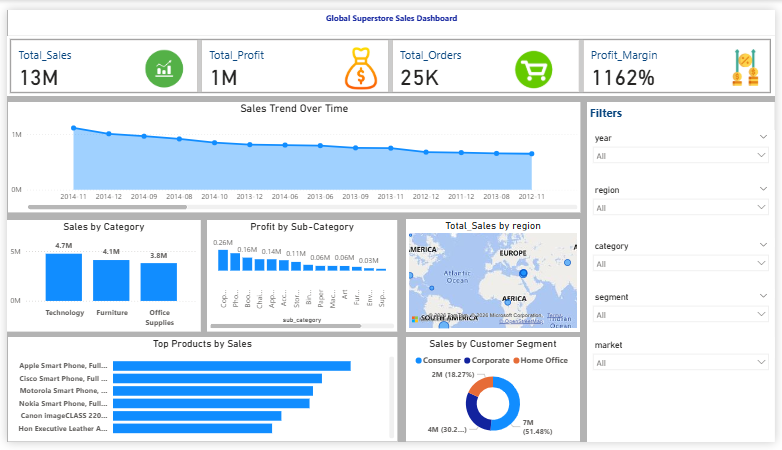

Layout of this report page (visuals, bound fields, positions):
{"tool":"powerbi","page":{"name":"Page 1","canvas":[1280,720],"ordinal":0},"visuals":[{"type":"cardVisual","fields":{"Data":["SuperStoreOrders - SuperStoreOrders.Total_Sales","SuperStoreOrders - SuperStoreOrders.Total_Profit","SuperStoreOrders - SuperStoreOrders.Total_Orders","SuperStoreOrders - SuperStoreOrders.Profit_Margin"]},"box":[0,42.9,1280,100],"z":0},{"type":"lineChart","title":"Sales Trend Over Time","fields":{"Category":["SuperStoreOrders - SuperStoreOrders.Year-Month"],"Y":["SuperStoreOrders - SuperStoreOrders.Total_Sales"]},"box":[1.4,152.9,954.3,184.3],"z":1000},{"type":"clusteredColumnChart","title":"Sales by Category","fields":{"Y":["SuperStoreOrders - SuperStoreOrders.Total_Sales"],"Category":["SuperStoreOrders - SuperStoreOrders.category"]},"box":[0,350,322.9,185.7],"z":2000},{"type":"clusteredColumnChart","title":"Profit by Sub-Category","fields":{"Category":["SuperStoreOrders - SuperStoreOrders.sub_category"],"Y":["SuperStoreOrders - SuperStoreOrders.Total_Profit"]},"box":[332.9,350,317.1,185.7],"z":3000},{"type":"map","fields":{"Category":["SuperStoreOrders - SuperStoreOrders.region"],"Size":["SuperStoreOrders - SuperStoreOrders.Total_Sales"]},"box":[665.7,348.6,290,187.1],"z":4000},{"type":"barChart","title":"Top Products by Sales","fields":{"Category":["SuperStoreOrders - SuperStoreOrders.product_name"],"Y":["SuperStoreOrders - SuperStoreOrders.Total_Sales"]},"box":[1.4,545.7,648.6,174.3],"z":5000},{"type":"donutChart","title":"Sales by Customer Segment","fields":{"Category":["SuperStoreOrders - SuperStoreOrders.segment"],"Y":["SuperStoreOrders - SuperStoreOrders.Total_Sales"]},"box":[665.7,545.7,290,174.3],"z":6000},{"type":"textbox","box":[966.7,153.3,313.3,566.7],"z":7000},{"type":"textbox","box":[1.4,0,1278.6,42.9],"z":8000},{"type":"slicer","fields":{"Values":["SuperStoreOrders - SuperStoreOrders.year"]},"box":[966.7,200,313.3,86.7],"z":9000},{"type":"slicer","fields":{"Values":["SuperStoreOrders - SuperStoreOrders.region"]},"box":[966.7,286.7,313.3,108.3],"z":10000},{"type":"slicer","fields":{"Values":["SuperStoreOrders - SuperStoreOrders.category"]},"box":[966.7,380,313.3,100],"z":11000},{"type":"slicer","fields":{"Values":["SuperStoreOrders - SuperStoreOrders.segment"]},"box":[966.7,465,313.3,115],"z":12000},{"type":"slicer","fields":{"Values":["SuperStoreOrders - SuperStoreOrders.market"]},"box":[966.7,545,313.3,175],"z":13000}]}

Visuals, with their boxes in screenshot pixels (x1, y1, x2, y2), scaled from the page's 1280x720 canvas onto the 782x450 screenshot:
cardVisual - SuperStoreOrders - SuperStoreOrders.Total_Sales x SuperStoreOrders - SuperStoreOrders.Total_Profit: [left=0, top=27, right=781, bottom=89]
"Sales Trend Over Time" lineChart: [left=1, top=96, right=584, bottom=211]
"Sales by Category" clusteredColumnChart: [left=0, top=219, right=197, bottom=335]
"Profit by Sub-Category" clusteredColumnChart: [left=203, top=219, right=397, bottom=335]
map - SuperStoreOrders - SuperStoreOrders.region x SuperStoreOrders - SuperStoreOrders.Total_Sales: [left=407, top=218, right=584, bottom=335]
"Top Products by Sales" barChart: [left=1, top=341, right=397, bottom=449]
"Sales by Customer Segment" donutChart: [left=407, top=341, right=584, bottom=449]
textbox: [left=591, top=96, right=781, bottom=449]
textbox: [left=1, top=0, right=781, bottom=27]
slicer - SuperStoreOrders - SuperStoreOrders.year: [left=591, top=125, right=781, bottom=179]
slicer - SuperStoreOrders - SuperStoreOrders.region: [left=591, top=179, right=781, bottom=247]
slicer - SuperStoreOrders - SuperStoreOrders.category: [left=591, top=238, right=781, bottom=300]
slicer - SuperStoreOrders - SuperStoreOrders.segment: [left=591, top=291, right=781, bottom=362]
slicer - SuperStoreOrders - SuperStoreOrders.market: [left=591, top=341, right=781, bottom=449]
